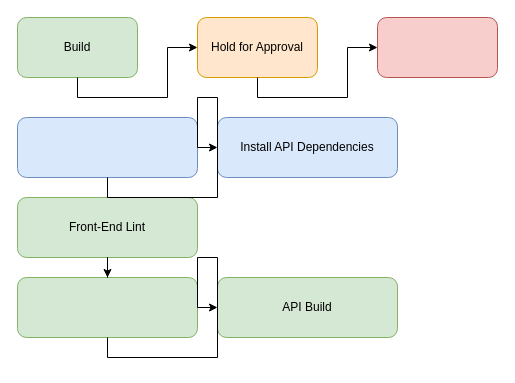
Some shapes in this 515 by 383 pixel diagram are drawn without their labels. The shapes that lost their labels are listed below. From the top down, each one's centre as x and y in pixels, then its label:
At pixel 437 47: "Deploy".
At pixel 107 147: "Install Front-End Dependencies".
At pixel 107 307: "Front-End Build".
